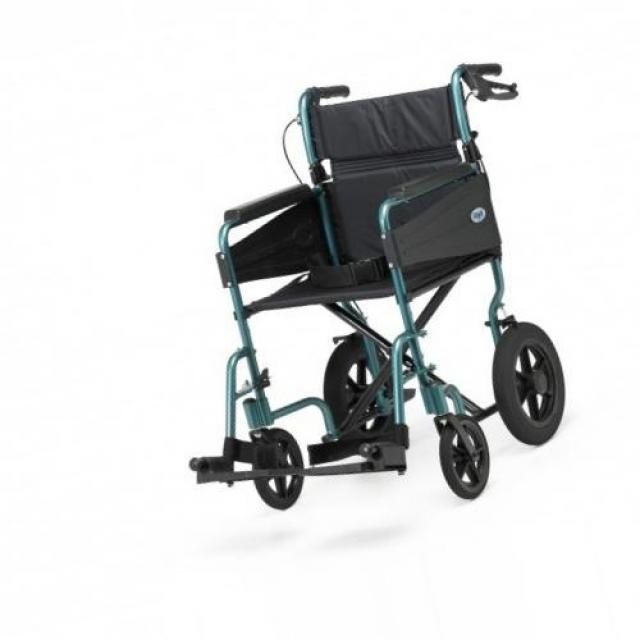wheelchair: (154, 44, 586, 517)
